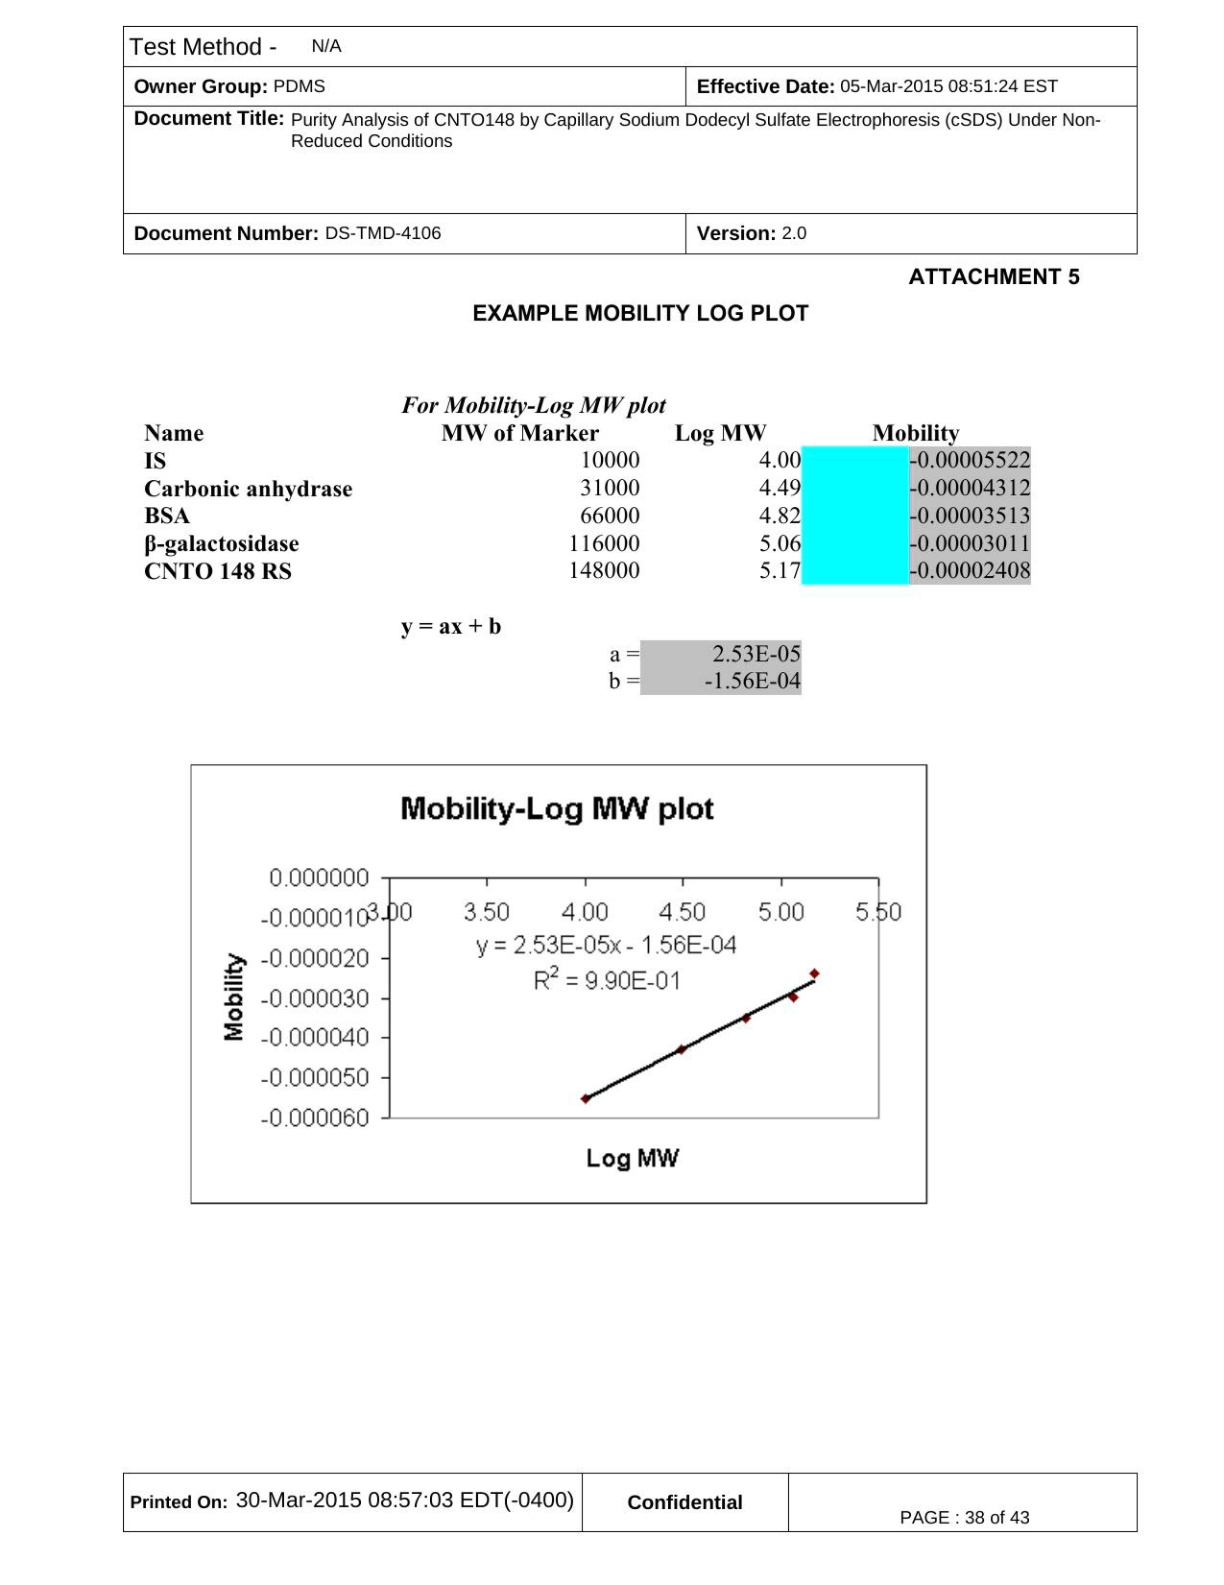full_lined: (122, 1471, 1139, 1534)
merged_cells: (122, 24, 1139, 256)
nolines: (139, 390, 1088, 596)
